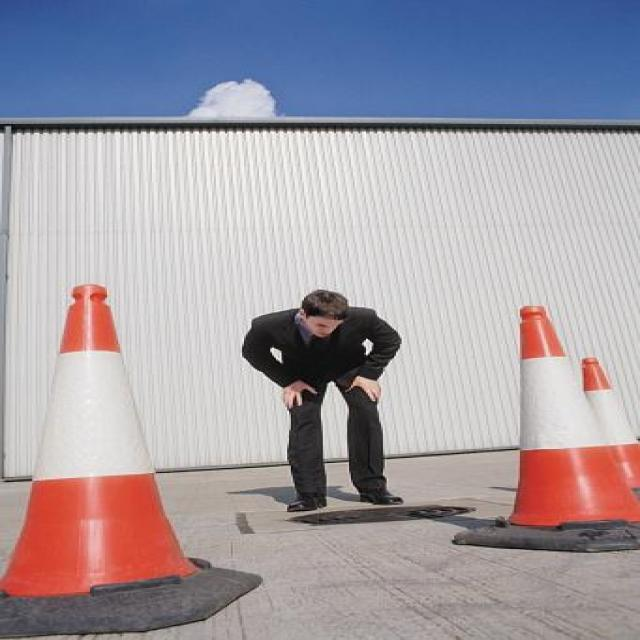Cone: (2, 283, 266, 634), (458, 306, 640, 557)
